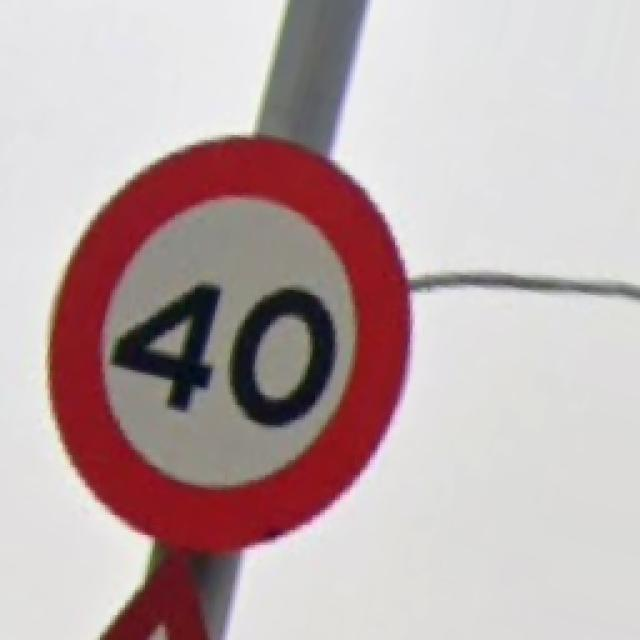Speed Limit -40-: (50, 138, 408, 548)
